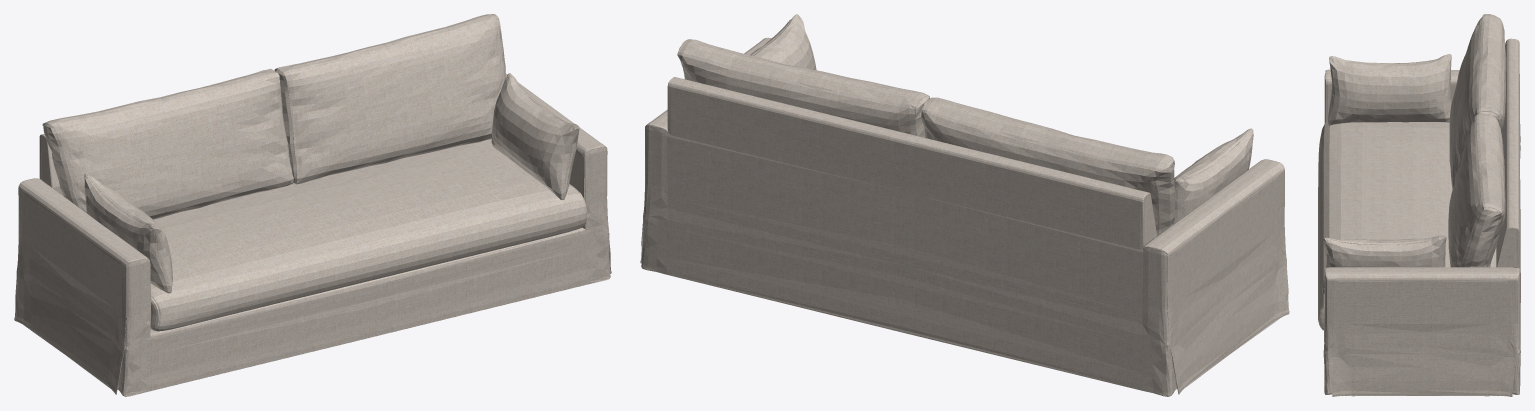
3 views of the same model, side by side, from view 1: azimuth 30°, elevation 25°; view 2: azimuth 150°, elevation 25°; view 3: azimuth 270°, elevation 25° (orthographic). The views are drawn at different scales.
Parts seen in each view (by area): view 1: world; view 2: world; view 3: world.
Part boxes in pixels (x1,y1,x2,y2): world: [14, 14, 611, 396]; world: [640, 14, 1289, 396]; world: [1318, 14, 1520, 396].
Size of the model in its own units: 2.32 by 0.91 by 0.93.
Materials: 1 (1 with a texture image).
